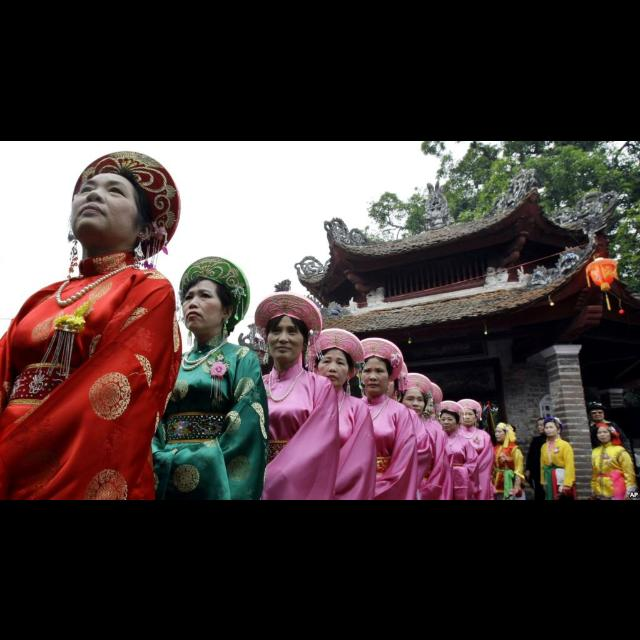head: (70, 167, 160, 246), (180, 268, 236, 332), (264, 309, 310, 363), (314, 344, 354, 390), (360, 348, 394, 396), (360, 354, 394, 396), (399, 382, 428, 420), (440, 408, 460, 432), (461, 404, 479, 426), (543, 418, 561, 438), (494, 422, 510, 442), (597, 424, 613, 444), (589, 403, 605, 421), (536, 416, 550, 434)
